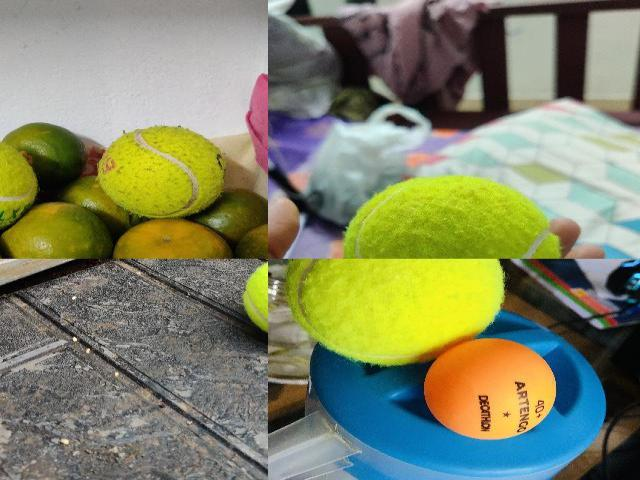tennis-ball: (290, 259, 503, 366), (341, 174, 563, 258), (96, 125, 228, 217), (0, 142, 39, 232), (241, 259, 267, 341)
